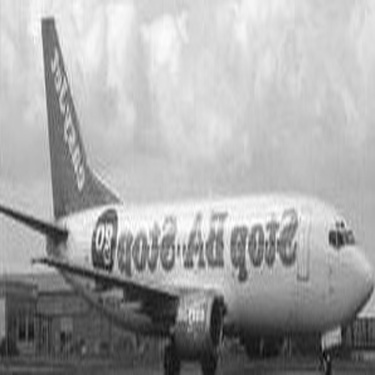airplane: (2, 1, 368, 372)
